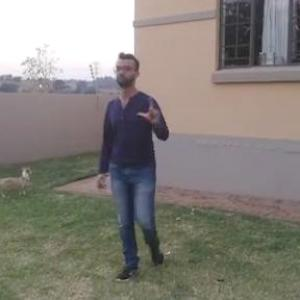land_hand: (136, 92, 162, 125)
